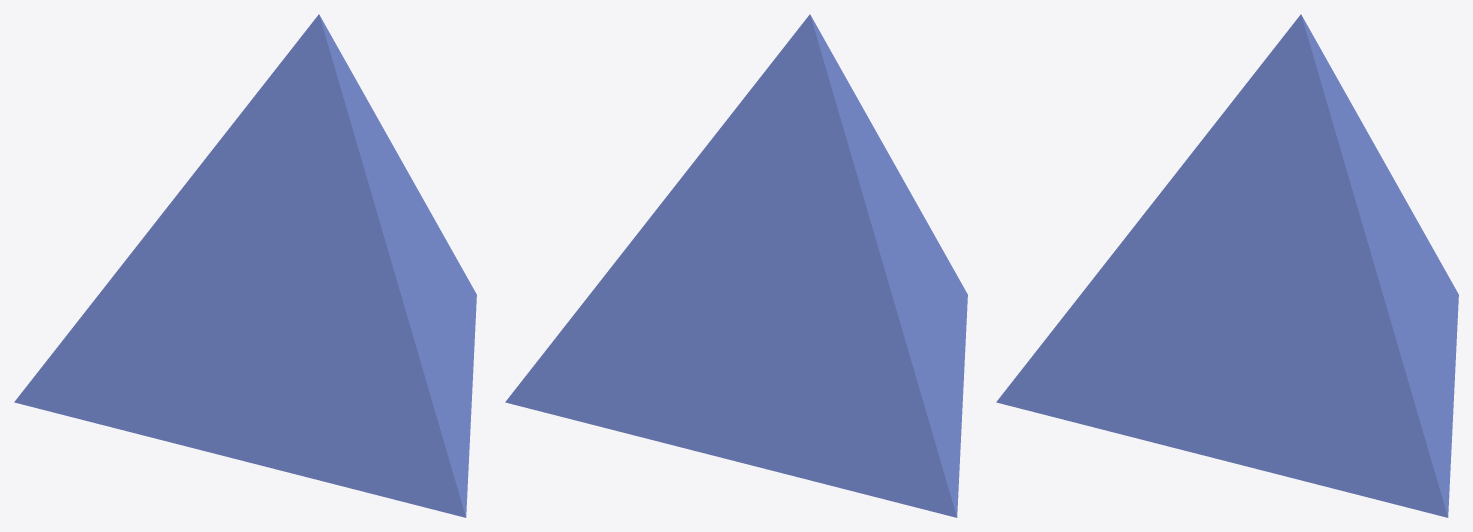
Rendered from asset.glb.
3 renders of one model, left to right at view 1: azimuth 30°, elevation 25°; view 2: azimuth 150°, elevation 25°; view 3: azimuth 270°, elevation 25°, orthographic.
Visible parts, largest first — view 1: 3DGeom-1; view 2: 3DGeom-1; view 3: 3DGeom-1.
Part boxes in pixels (box(x1,y1,x2,y2)): 3DGeom-1: box(14, 14, 476, 517); 3DGeom-1: box(505, 14, 967, 517); 3DGeom-1: box(996, 14, 1458, 517).
Size of the model in its own units: 1.06 by 0.8621 by 0.9249.
